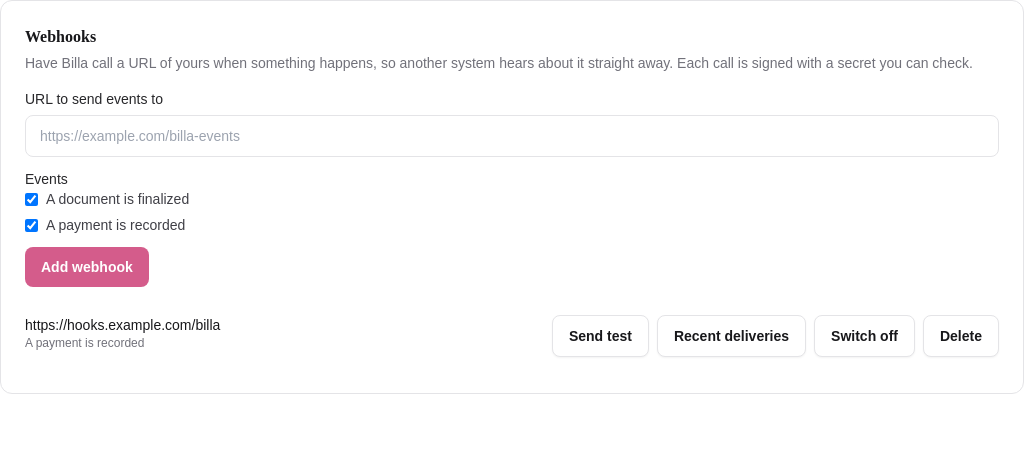
Scenario: WebhooksSection › shows recent deliveries with their outcome
Click the button "Recent deliveries" at (732, 336), box [657,315,806,357]
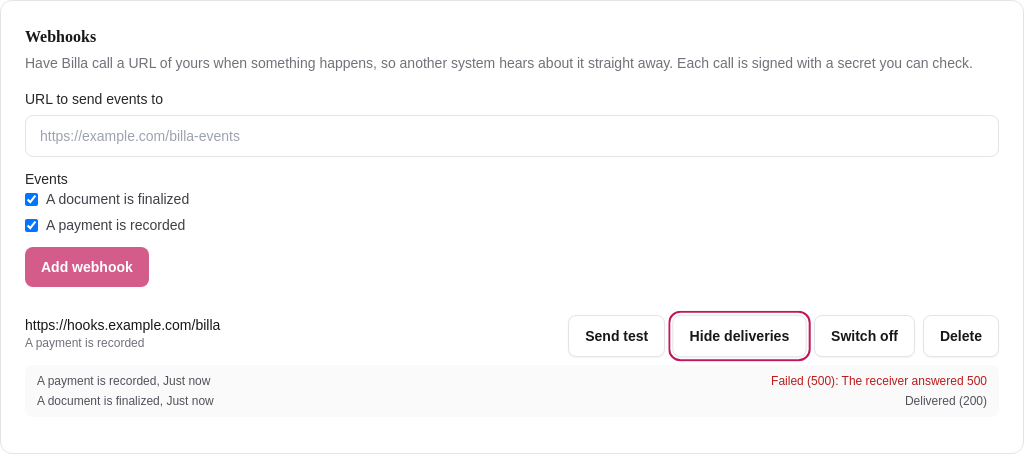
Expected: the text "Failed (500): The receiver answered 500" is shown, [771,373,987,389]
Expected: the text "Delivered (200)" is shown, [905,393,987,409]
